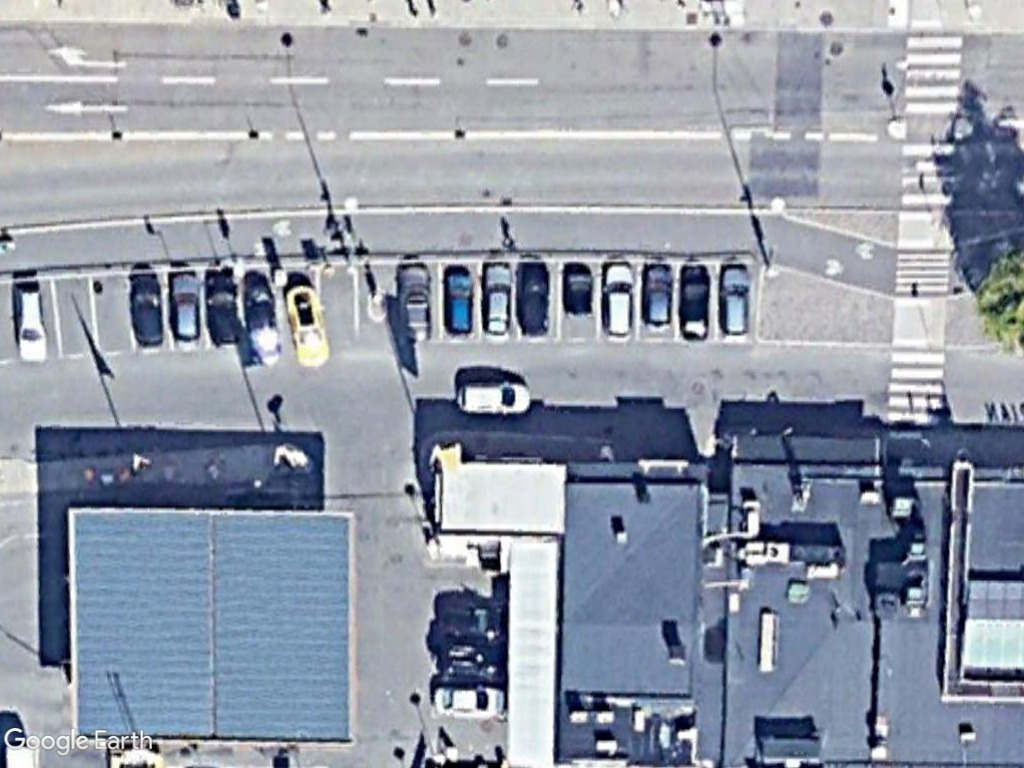car: (278, 280, 332, 373), (451, 372, 539, 422), (8, 280, 55, 371), (123, 265, 169, 353), (595, 255, 638, 346), (512, 257, 556, 341), (632, 259, 681, 333), (477, 256, 517, 345), (203, 263, 243, 351), (674, 256, 712, 345), (166, 265, 203, 355), (715, 259, 755, 342), (441, 263, 479, 341)
